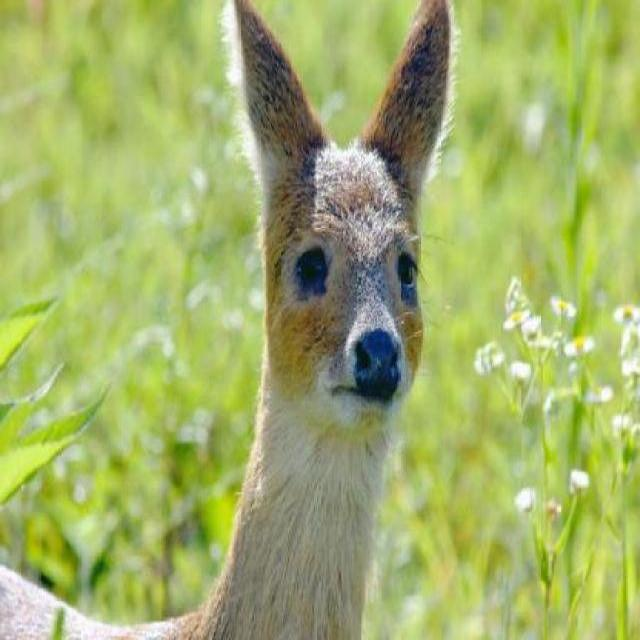deer: (0, 0, 472, 637)
